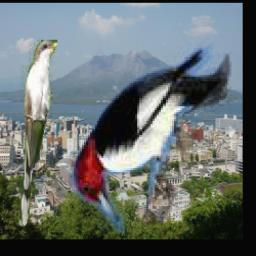Cuckoo: (18, 40, 57, 226)
Woodpecker: (54, 39, 233, 234)
